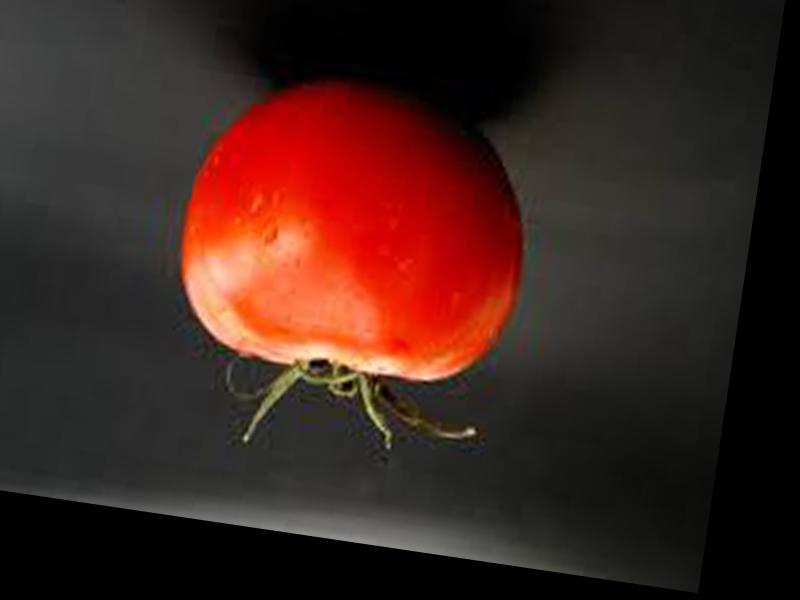Tomato: (163, 62, 541, 394)
